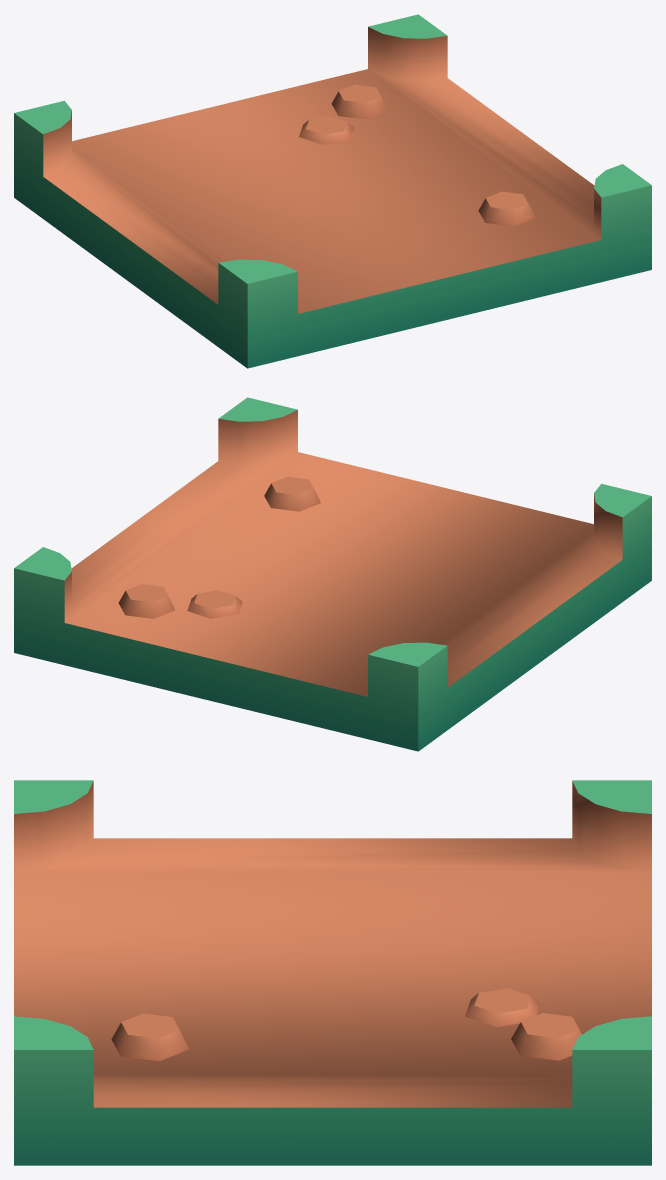
Rendered from kenney-tower-defense-tile-crossing.glb.
3 views of the same model, one above another, from view 1: azimuth 30°, elevation 25°; view 2: azimuth 150°, elevation 25°; view 3: azimuth 270°, elevation 25° (orthographic). The views are drawn at different scales.
Parts seen in each view (by area): view 1: tile-crossing; view 2: tile-crossing; view 3: tile-crossing.
Part boxes in pixels (x1,y1,x2,y2): tile-crossing: [14, 14, 651, 368]; tile-crossing: [14, 397, 651, 751]; tile-crossing: [14, 780, 651, 1165].
Size of the model in its own units: 1 by 0.2 by 1.
Materials: 1 (1 with a texture image).
